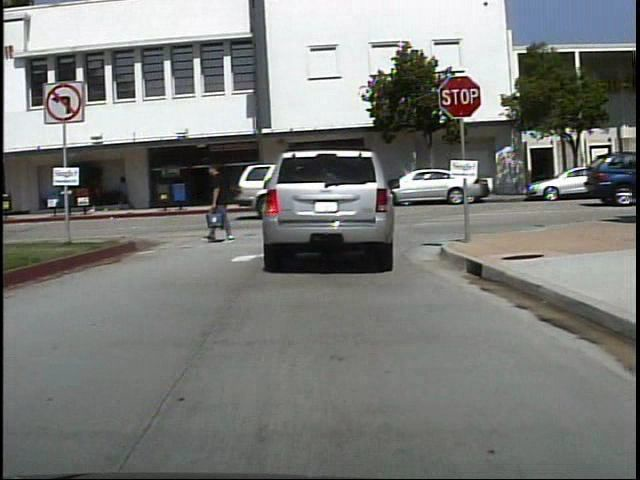person: (203, 158, 241, 244), (90, 172, 111, 211), (119, 172, 138, 212)
